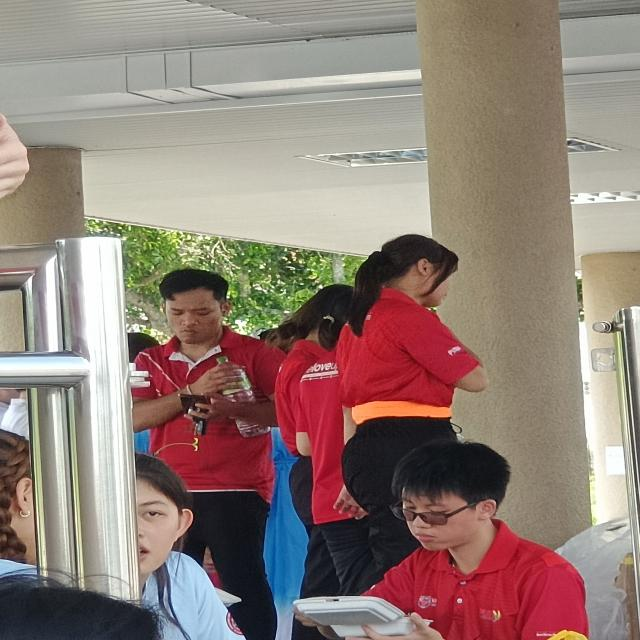person_without_labcoat: (133, 269, 285, 640), (337, 234, 487, 572), (363, 439, 589, 640)
